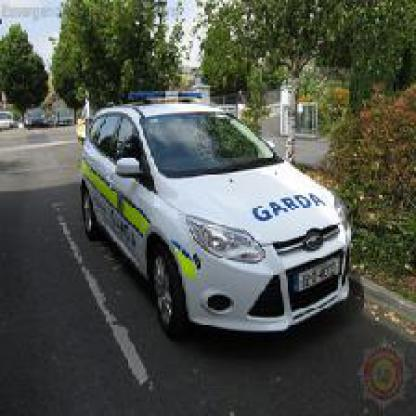emergency: (50, 83, 370, 353)
